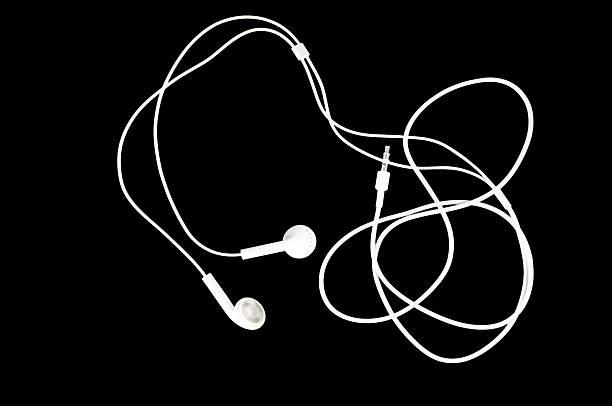headphone: (191, 206, 334, 338)
